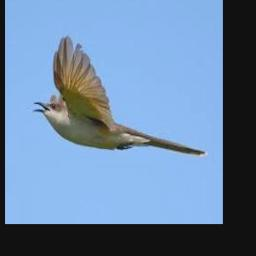Cuckoo: (33, 36, 207, 157)
